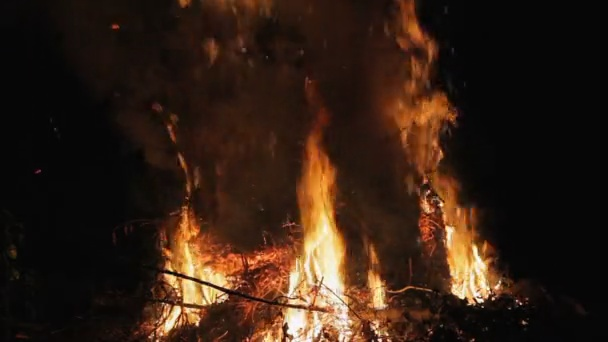fire: (284, 143, 348, 342), (165, 208, 224, 332), (444, 211, 492, 304), (398, 94, 444, 172), (367, 269, 386, 309)
